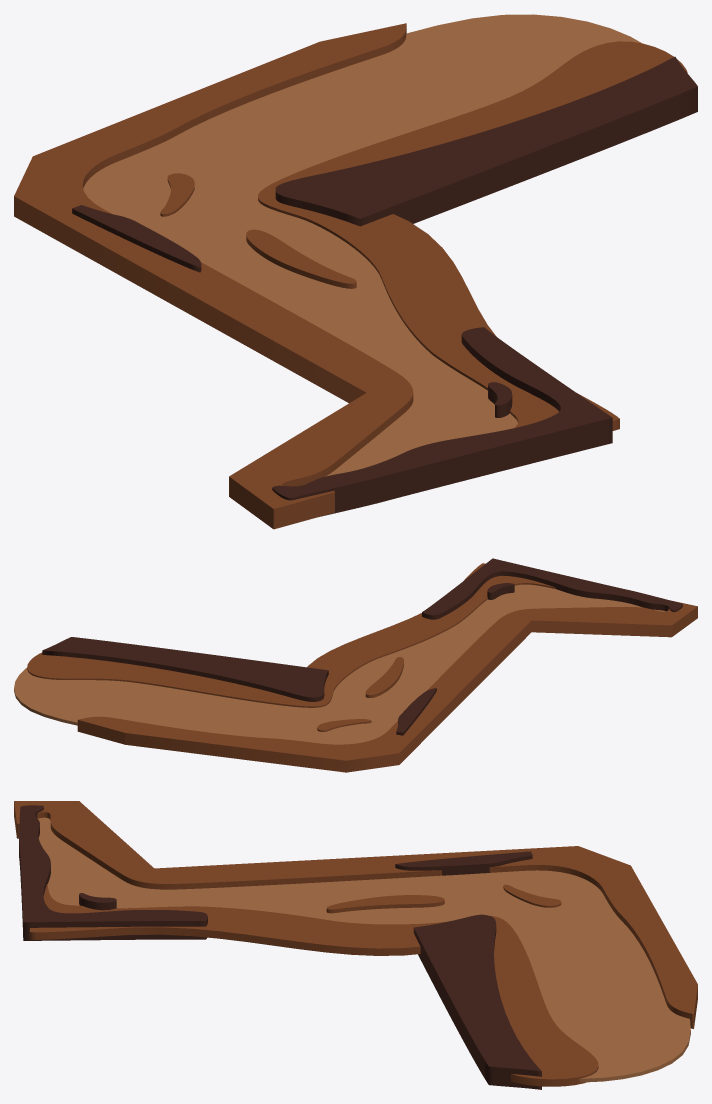
Rendered from emoji_u1f9b5_1f3fe.glb.
3 views of the same model, one above another, from view 1: azimuth 30°, elevation 25°; view 2: azimuth 150°, elevation 25°; view 3: azimuth 270°, elevation 25° (orthographic). The views are drawn at different scales.
Visible parts, largest first — view 1: emoji_u1f9b5_1f3fe; view 2: emoji_u1f9b5_1f3fe; view 3: emoji_u1f9b5_1f3fe.
Part boxes in pixels (x1=…): emoji_u1f9b5_1f3fe: x1=14, y1=14, x2=697, y2=529; emoji_u1f9b5_1f3fe: x1=14, y1=558, x2=697, y2=772; emoji_u1f9b5_1f3fe: x1=14, y1=801, x2=697, y2=1089.
Bounding box in the file's own units: 0.0316 × 0.0012 × 0.0333.
